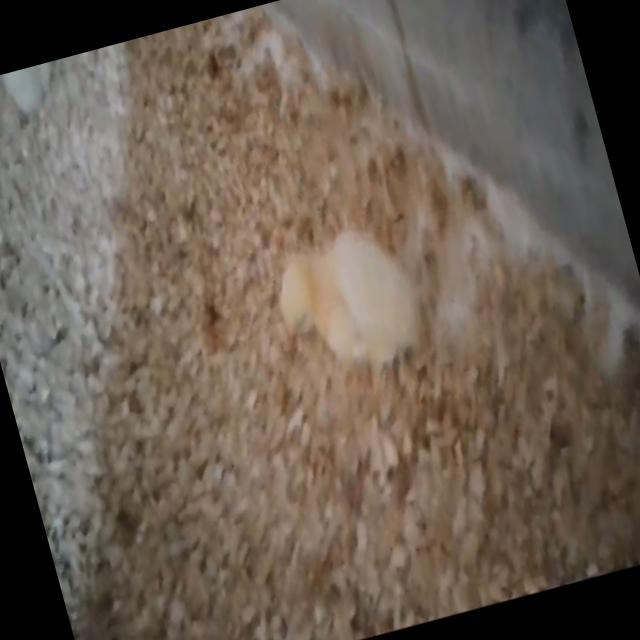abnormal chicken: (251, 197, 435, 392)
